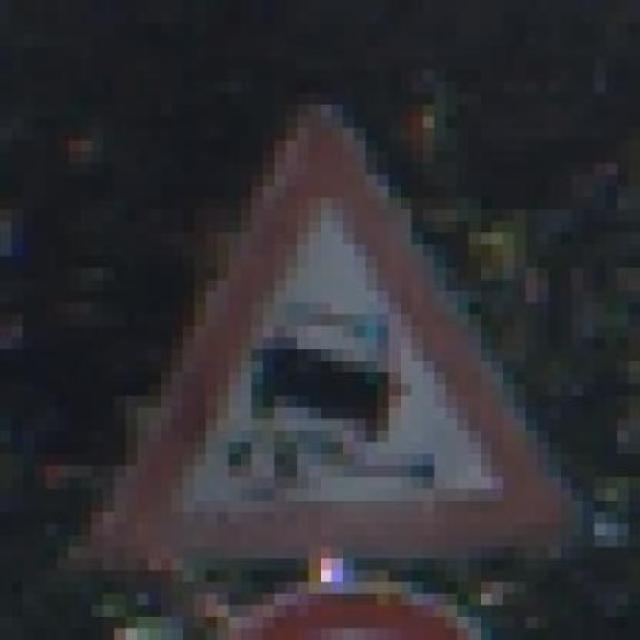Slippery Road Ahead: (91, 81, 594, 558)
